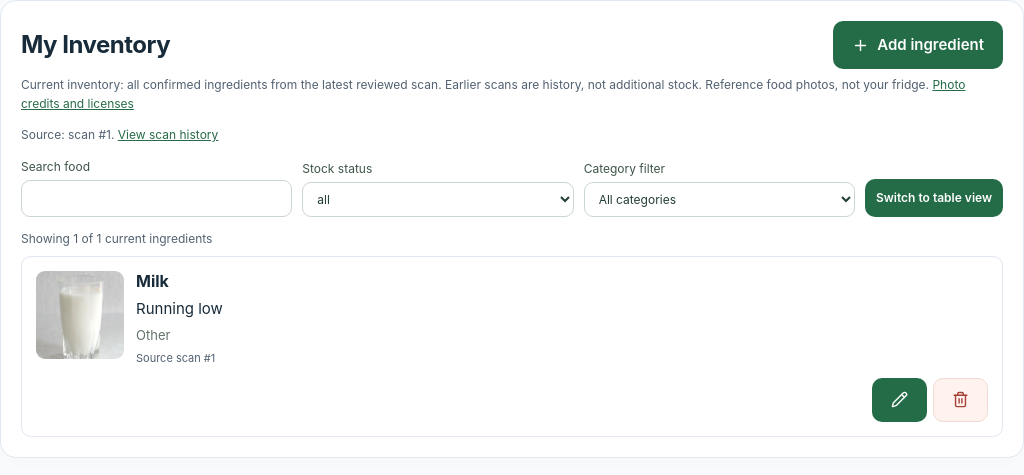
Test: excludes drafts and searches saved stock without changing it
Expected: the heading "Milk" is shown, [136,271,169,291]
Type "rice" into the field labelled "Search food" at (157, 198), box [21,180,292,217]
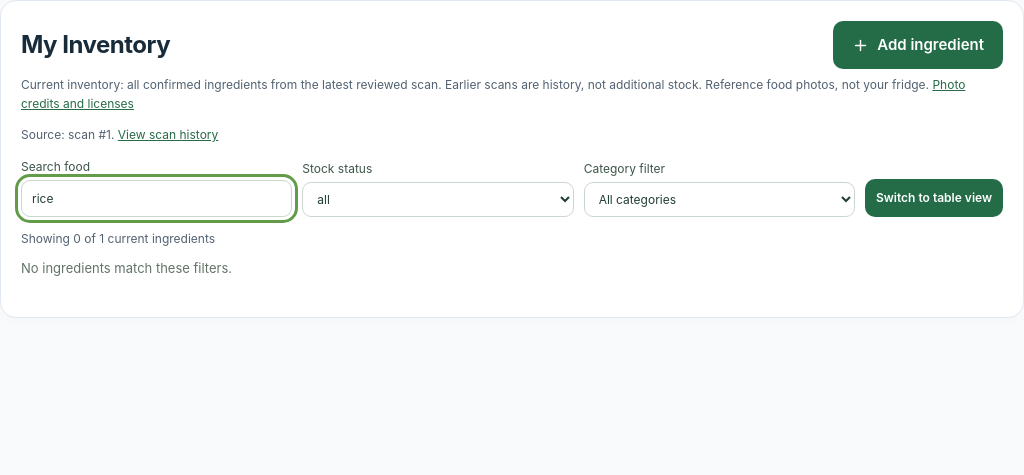
Expected: the heading "Milk" is gone
